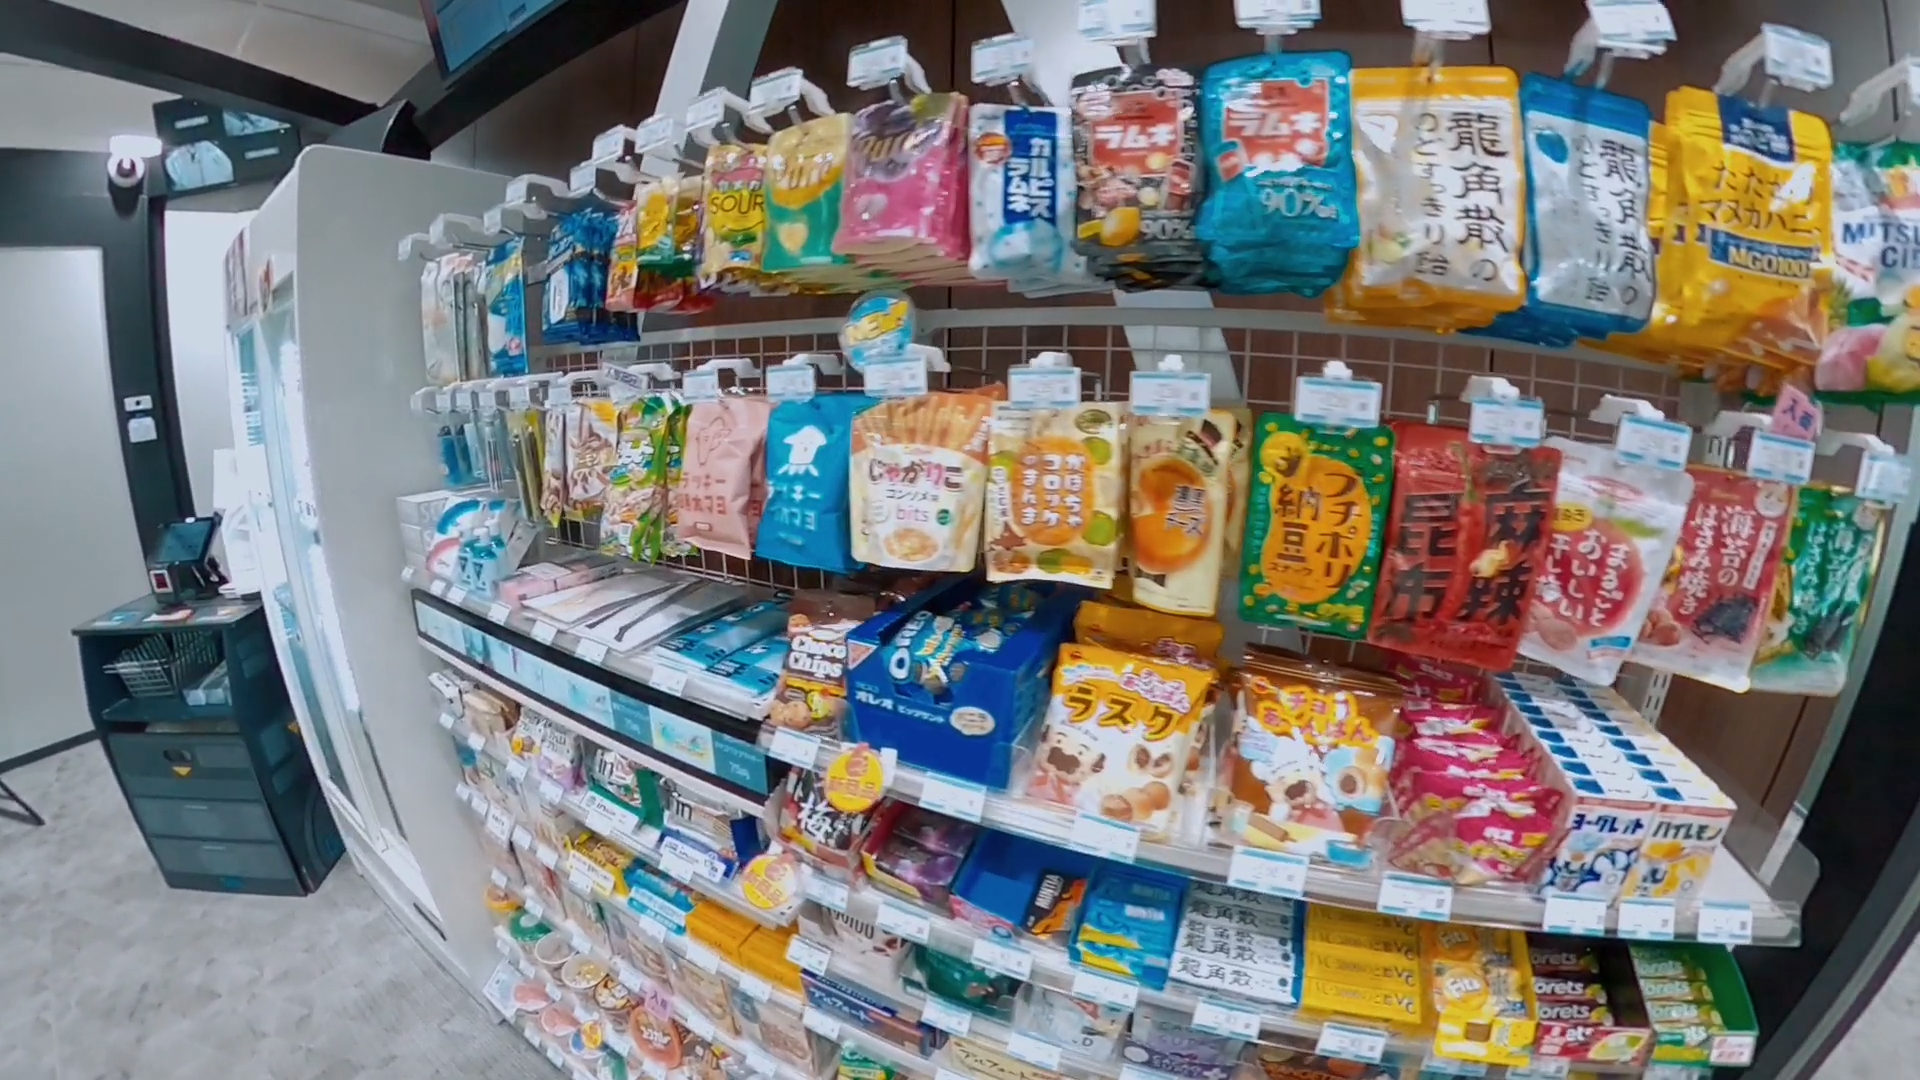NorinoHasamiyaki: (1754, 484, 1893, 698)
